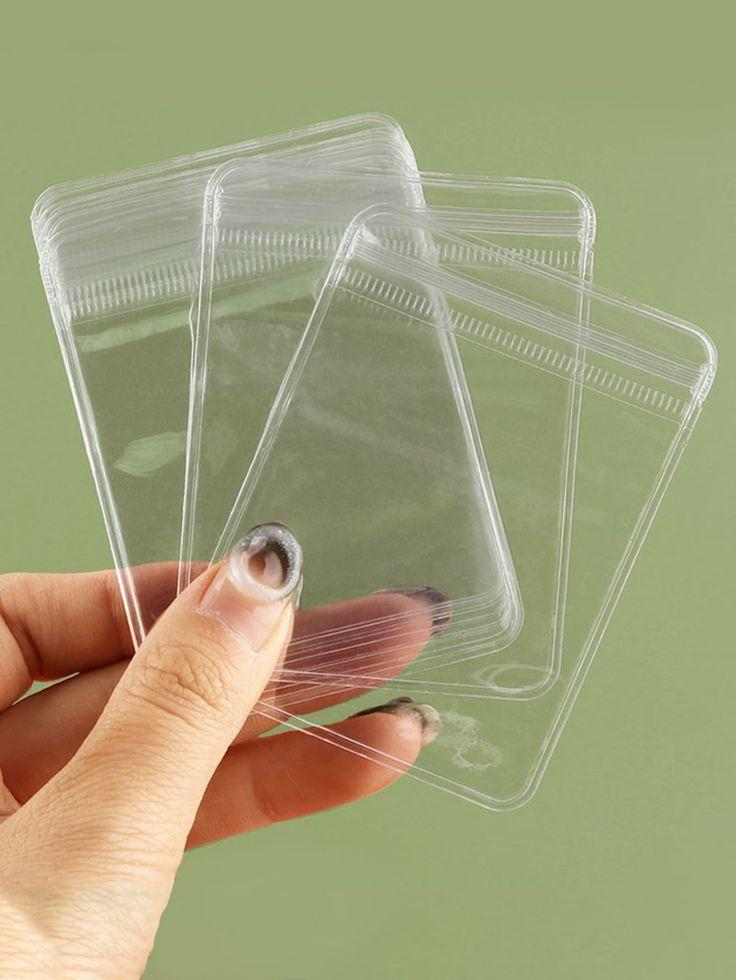LDPE: (28, 106, 598, 698), (211, 208, 720, 824)
